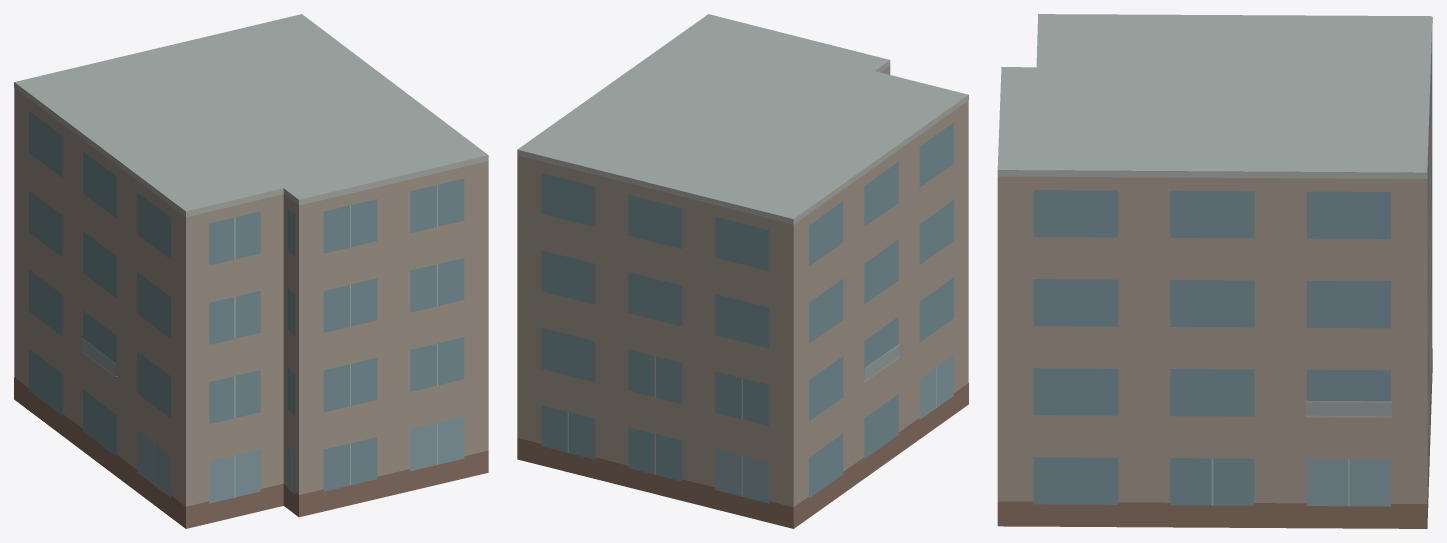
The model's file is survey-upis-32536262.glb.
3 renders of one model, left to right at view 1: azimuth 30°, elevation 25°; view 2: azimuth 150°, elevation 25°; view 3: azimuth 270°, elevation 25°, orthographic. The views are drawn at different scales.
Parts seen in each view (by area): view 1: survey-upis-32536262.tmp; view 2: survey-upis-32536262.tmp; view 3: survey-upis-32536262.tmp.
Part boxes in pixels (<box>): survey-upis-32536262.tmp: <box>14,14,488,528</box>; survey-upis-32536262.tmp: <box>517,14,968,528</box>; survey-upis-32536262.tmp: <box>997,14,1432,528</box>.
Bounding box in the file's own units: 12.81 × 13.4 × 14.83.
